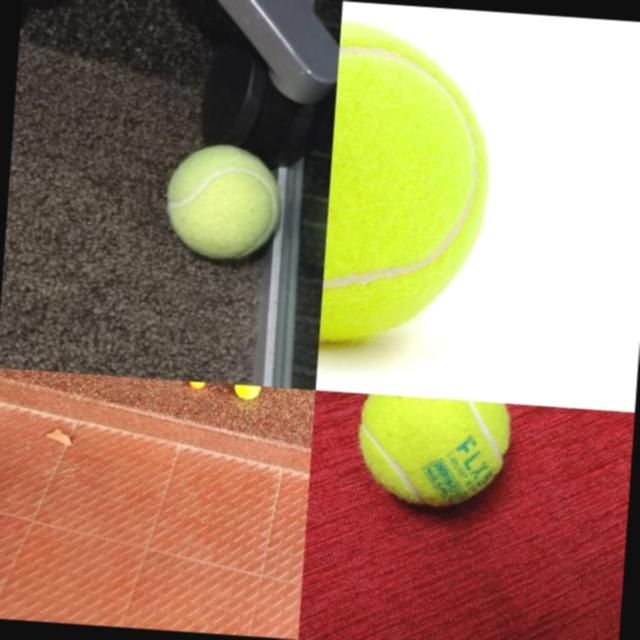tennis-ball: (318, 20, 498, 352), (352, 393, 512, 510), (160, 140, 284, 265), (232, 384, 260, 400)
